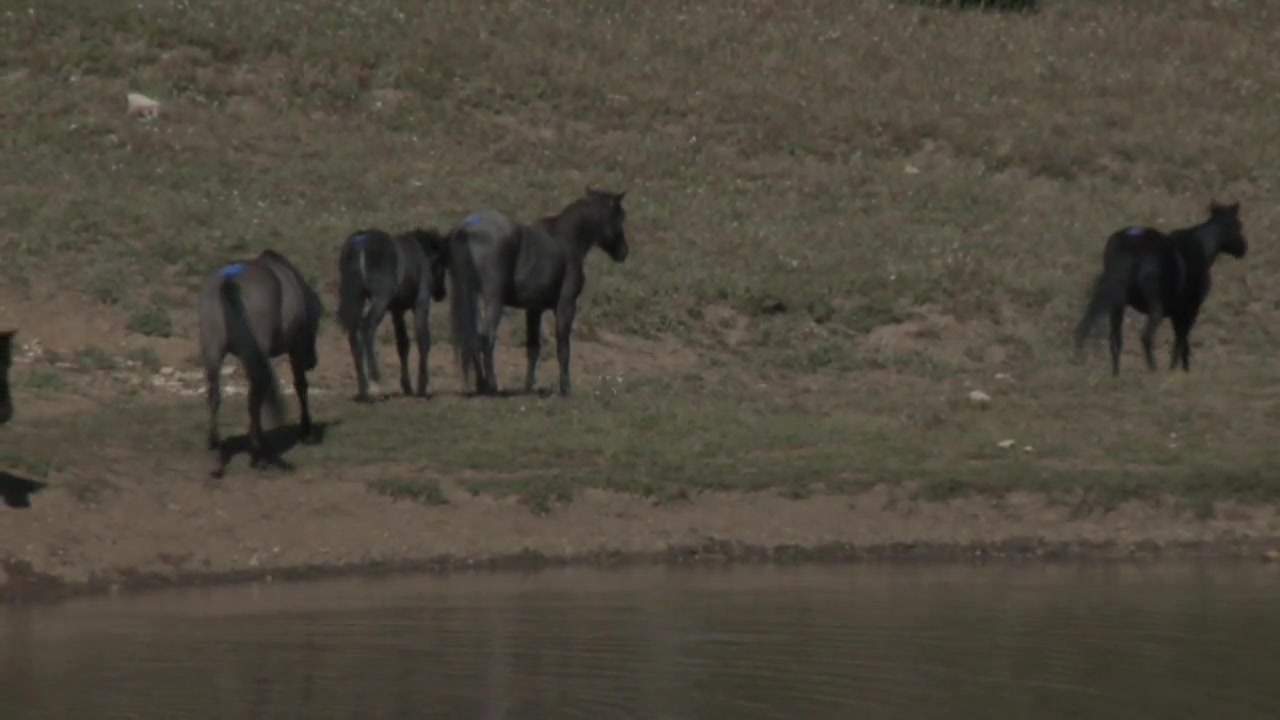horse: (445, 184, 635, 400), (1069, 194, 1254, 383), (185, 236, 328, 461), (334, 219, 459, 404), (1, 316, 29, 431)
